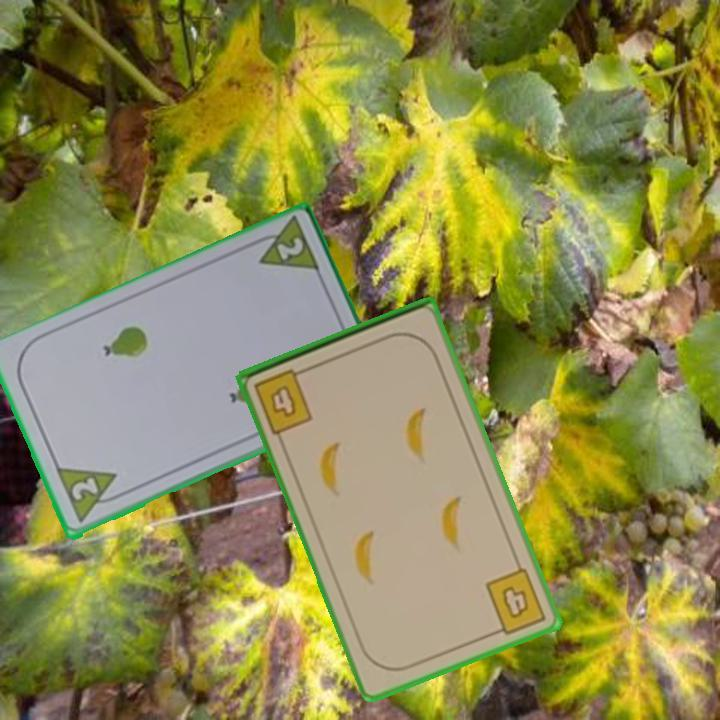2p: (245, 215, 323, 277), (67, 474, 101, 504)
4b: (482, 564, 549, 639), (251, 363, 316, 437)
